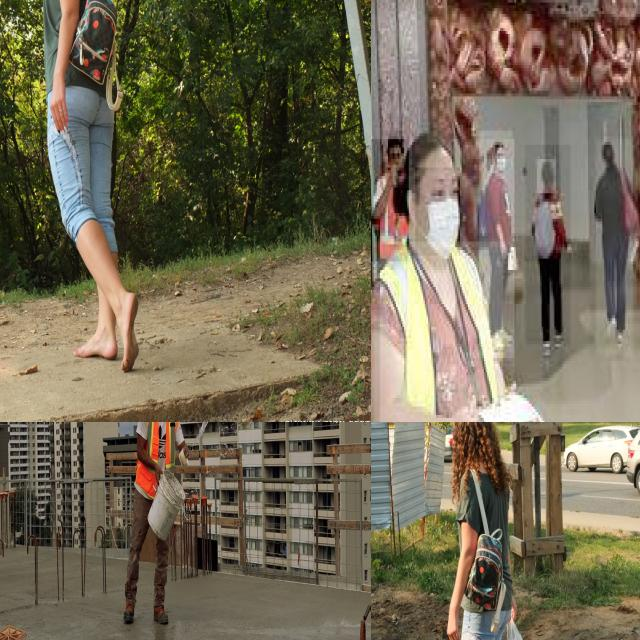Barefoots: (121, 292, 139, 372), (73, 334, 118, 360)
boots: (154, 596, 170, 631), (126, 600, 136, 625)
face_mask: (415, 168, 462, 258), (495, 144, 505, 168)
head_nohelmet: (412, 134, 457, 170), (536, 159, 558, 196), (388, 130, 404, 164), (604, 142, 615, 173)
person: (373, 139, 516, 422), (123, 422, 187, 631), (526, 145, 572, 347), (596, 139, 634, 358), (480, 131, 514, 358), (371, 139, 410, 264)
shoes: (550, 323, 568, 351), (538, 333, 554, 361), (614, 322, 628, 354), (602, 311, 616, 340)
vest: (380, 241, 505, 422), (134, 422, 178, 500)
